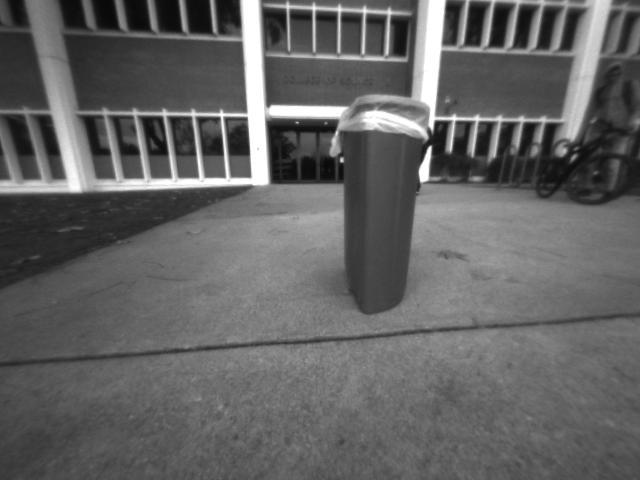trashcan: (333, 86, 437, 328)
